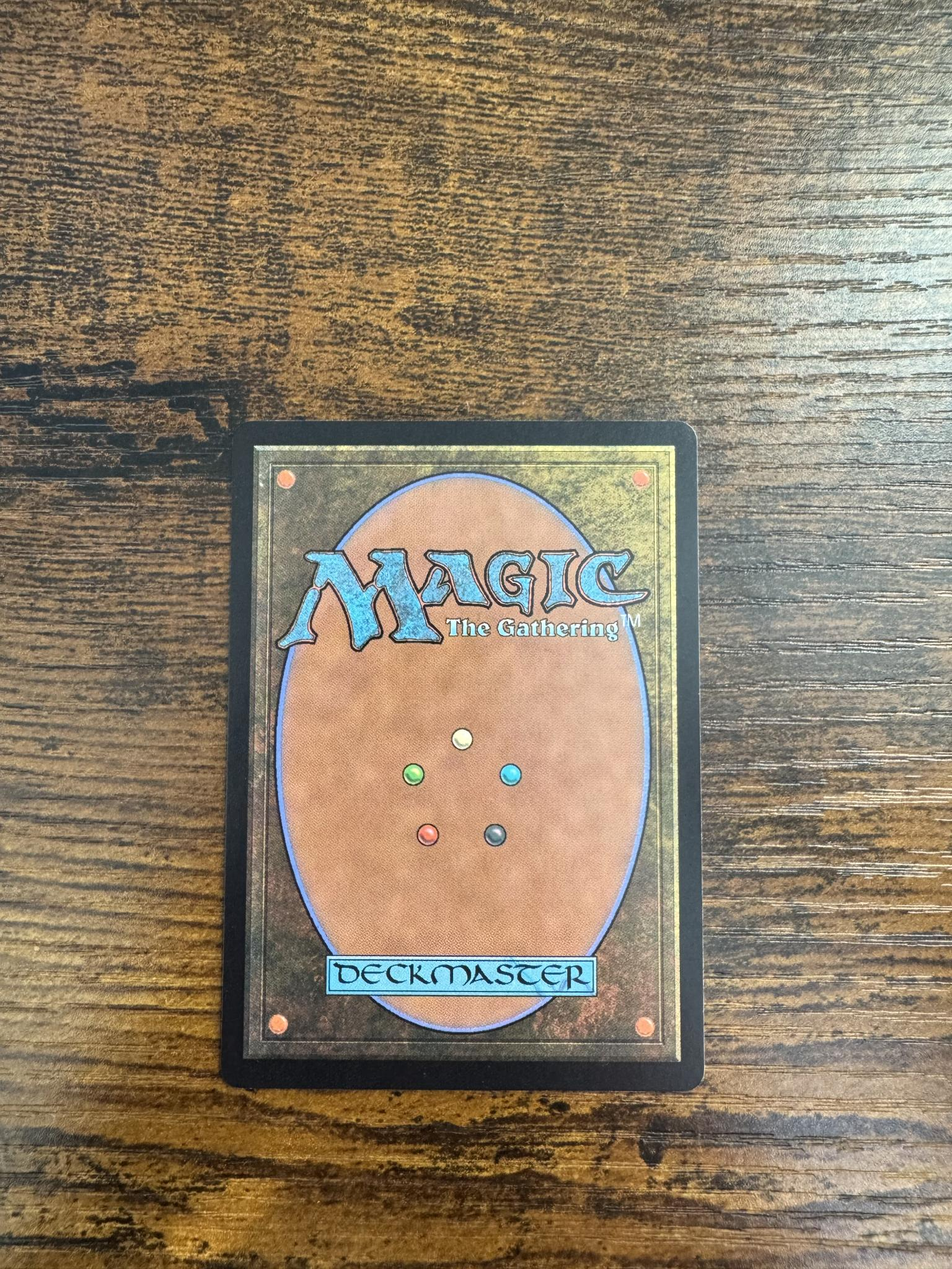card-2UtV: (220, 421, 705, 1091)
